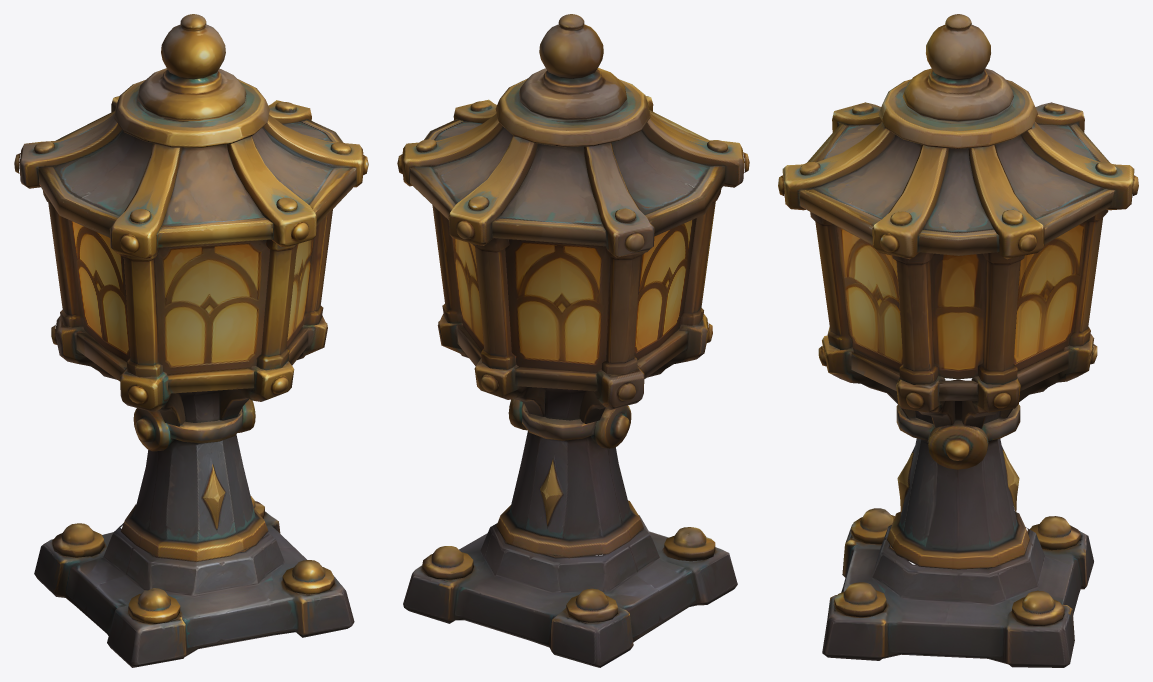
The model's file is fantasy_lantern.glb.
3 views of the same model, side by side, from view 1: azimuth 30°, elevation 25°; view 2: azimuth 150°, elevation 25°; view 3: azimuth 270°, elevation 25° (orthographic). The views are drawn at different scales.
Visible parts, largest first — view 1: tripo_86a928db_f01f_4b7a_bba8_33db5b2c3c44; view 2: tripo_86a928db_f01f_4b7a_bba8_33db5b2c3c44; view 3: tripo_86a928db_f01f_4b7a_bba8_33db5b2c3c44.
Boxes of the visible parts, <box> form: tripo_86a928db_f01f_4b7a_bba8_33db5b2c3c44: <box>14,14,368,667</box>; tripo_86a928db_f01f_4b7a_bba8_33db5b2c3c44: <box>397,14,749,667</box>; tripo_86a928db_f01f_4b7a_bba8_33db5b2c3c44: <box>778,14,1138,667</box>.
Size of the model in its own units: 0.4917 by 0.9995 by 0.5474.
Materials: 1 (1 with a texture image).
